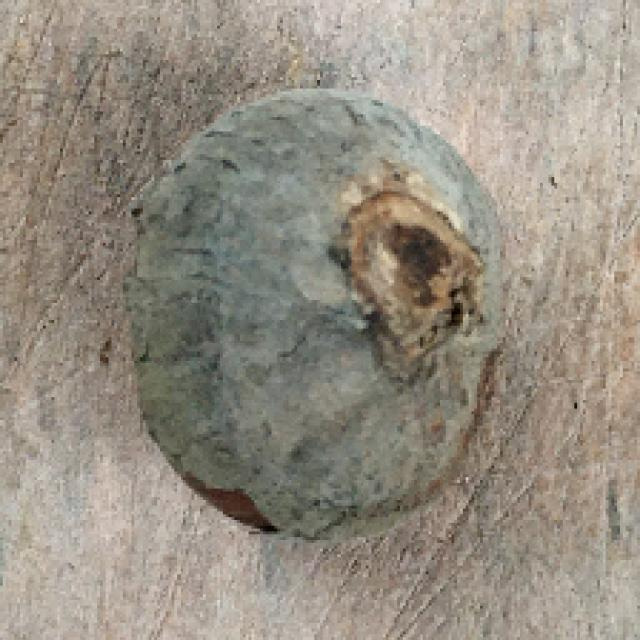damagedHazelnut: (108, 87, 515, 542)
